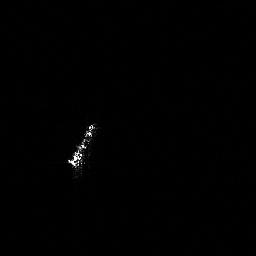ship: (63, 119, 100, 178)
